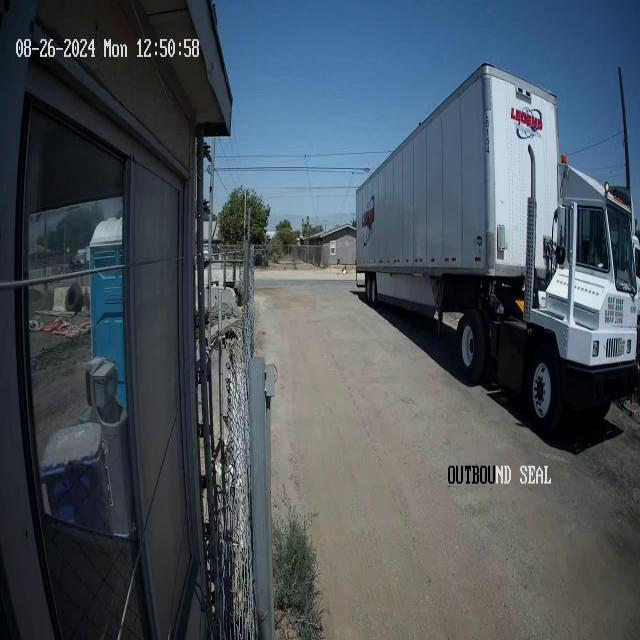CONTAINER: (356, 62, 564, 296)
